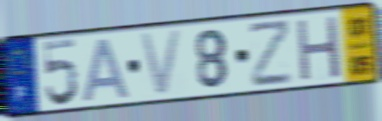5: (42, 36, 81, 109)
8: (194, 27, 231, 91)
A: (81, 36, 134, 104)
H: (294, 13, 343, 84)
V: (137, 26, 186, 100)
Z: (247, 17, 295, 90)
